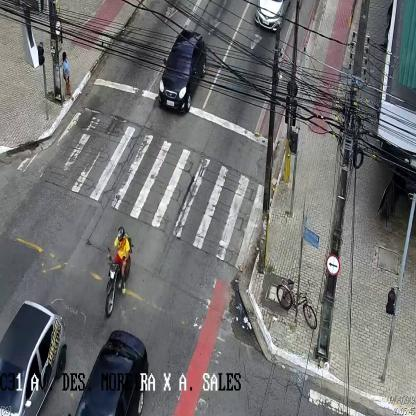bicycle: (276, 278, 317, 329)
car: (69, 330, 149, 416), (159, 29, 205, 116), (256, 0, 289, 33)
motorbike: (105, 225, 132, 316)
person: (63, 51, 72, 98)
